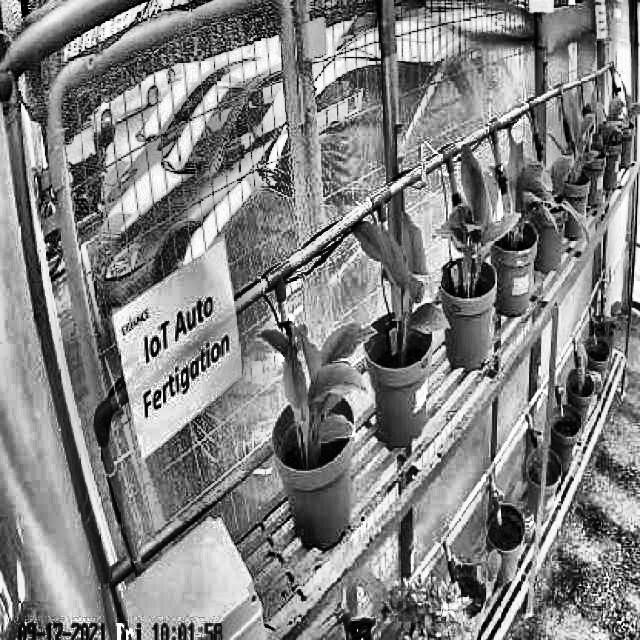plants: (258, 321, 376, 454), (352, 209, 450, 348), (450, 152, 512, 280), (500, 138, 556, 247), (568, 98, 596, 190)
